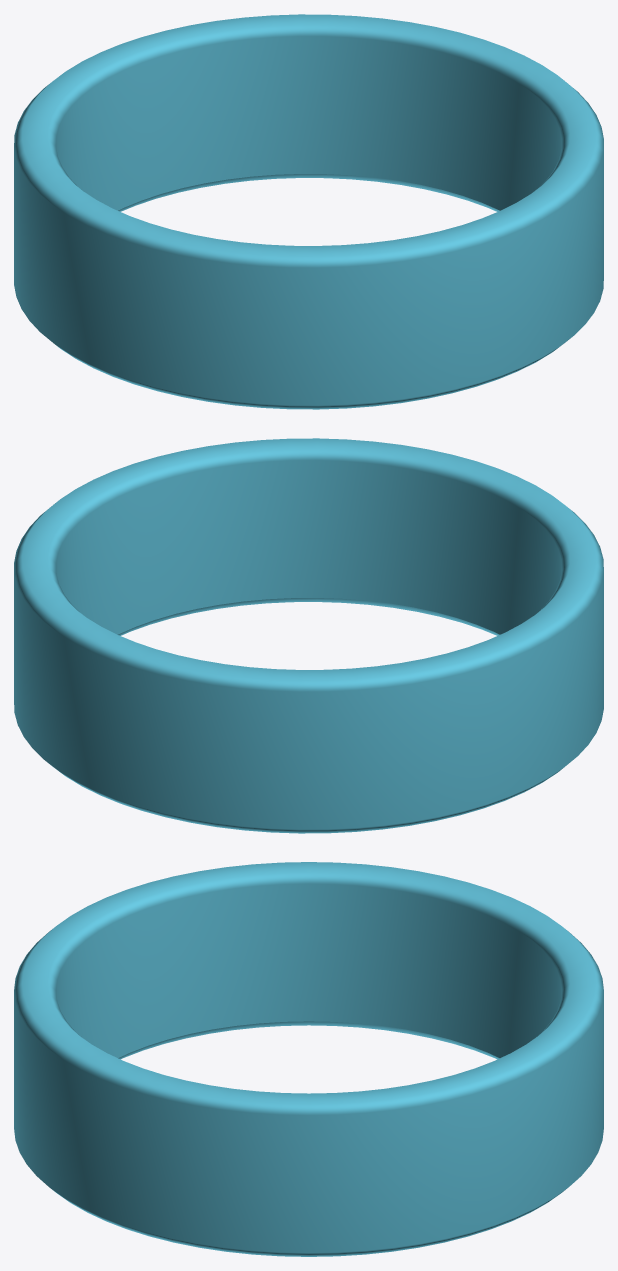
3 renders of one model, top to bottom at view 1: azimuth 30°, elevation 25°; view 2: azimuth 150°, elevation 25°; view 3: azimuth 270°, elevation 25°, orthographic.
Visible parts, largest first — view 1: seal_body; view 2: seal_body; view 3: seal_body.
Part boxes in pixels (left/top/right/bottom): seal_body: left=14, top=14, right=603, bottom=409; seal_body: left=14, top=438, right=603, bottom=833; seal_body: left=14, top=862, right=603, bottom=1256.
Bounding box in the file's own units: 0.0444 × 0.0127 × 0.0444.
